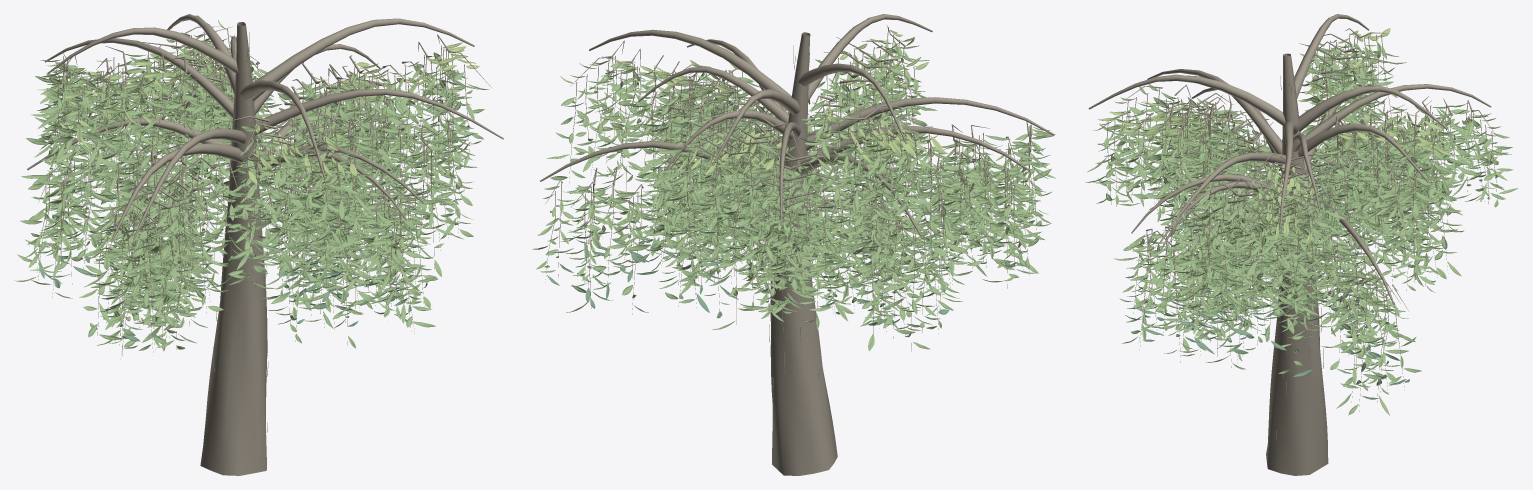
The picture shows the model from 3 angles, left to right: view 1: azimuth 30°, elevation 25°; view 2: azimuth 150°, elevation 25°; view 3: azimuth 270°, elevation 25°; orthographic projection. The views are drawn at different scales.
Parts seen in each view (by area): view 1: willow_river; view 2: willow_river; view 3: willow_river.
Boxes of the visible parts, bbox=[...] form: willow_river: bbox=[14, 14, 503, 475]; willow_river: bbox=[532, 14, 1055, 475]; willow_river: bbox=[1085, 14, 1517, 475].
Size of the model in its own units: 6.07 by 5.84 by 5.6.
